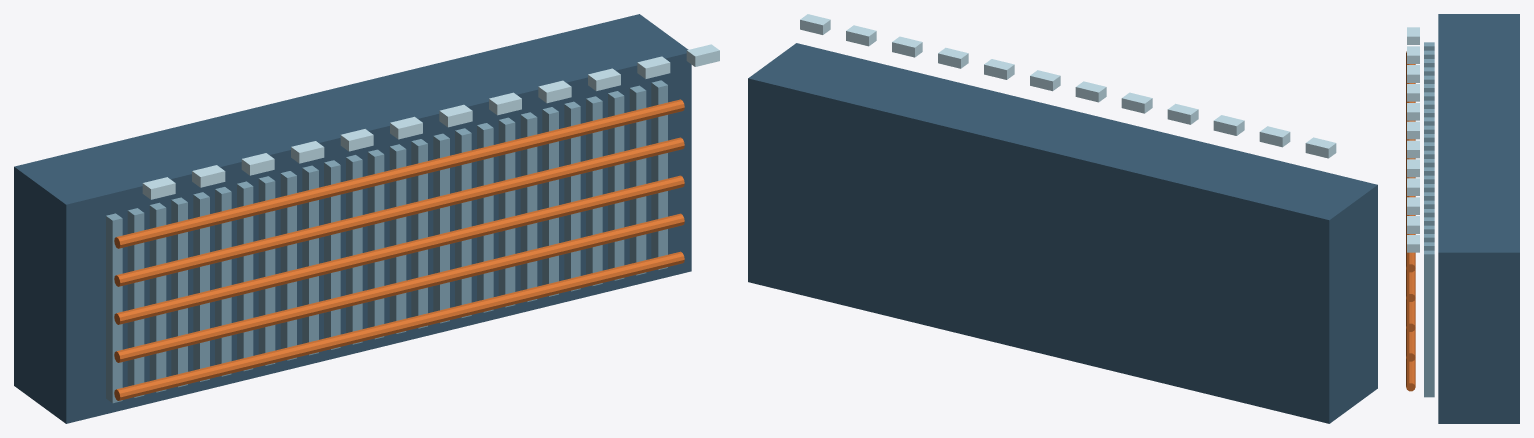
Rendered from 12_L69_EvaporatorCoilB.fbx.
The picture shows the model from 3 angles, left to right: view 1: azimuth 30°, elevation 25°; view 2: azimuth 150°, elevation 25°; view 3: azimuth 270°, elevation 25°; orthographic projection. The views are drawn at different scales.
Parts seen in each view (by area): view 1: EvaporatorCoilB; view 2: EvaporatorCoilB; view 3: EvaporatorCoilB.
Part boxes in pixels (<box>): EvaporatorCoilB: <box>14,14,719,423</box>; EvaporatorCoilB: <box>748,14,1377,423</box>; EvaporatorCoilB: <box>1406,14,1519,423</box>.
Bounding box in the file's own units: 218 × 76.75 × 43.3.
